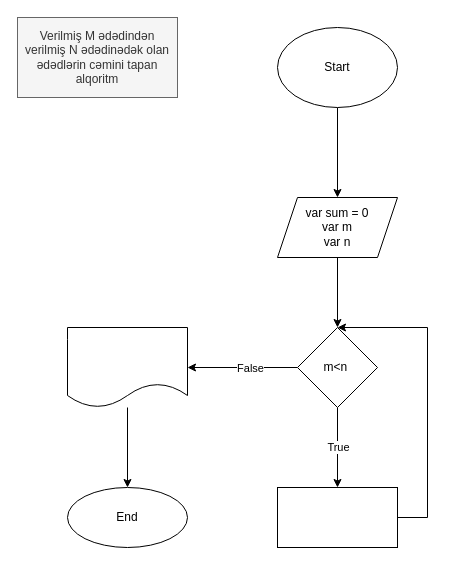
Some shapes in this 453 by 565 pixel diagram are drawn without their labels. The shapes that lost their labels are listed below. From the top down, each one's centre as x and y in pixels, then its label:
the point at 127,367: Sum
the point at 337,517: sum+=m m++
